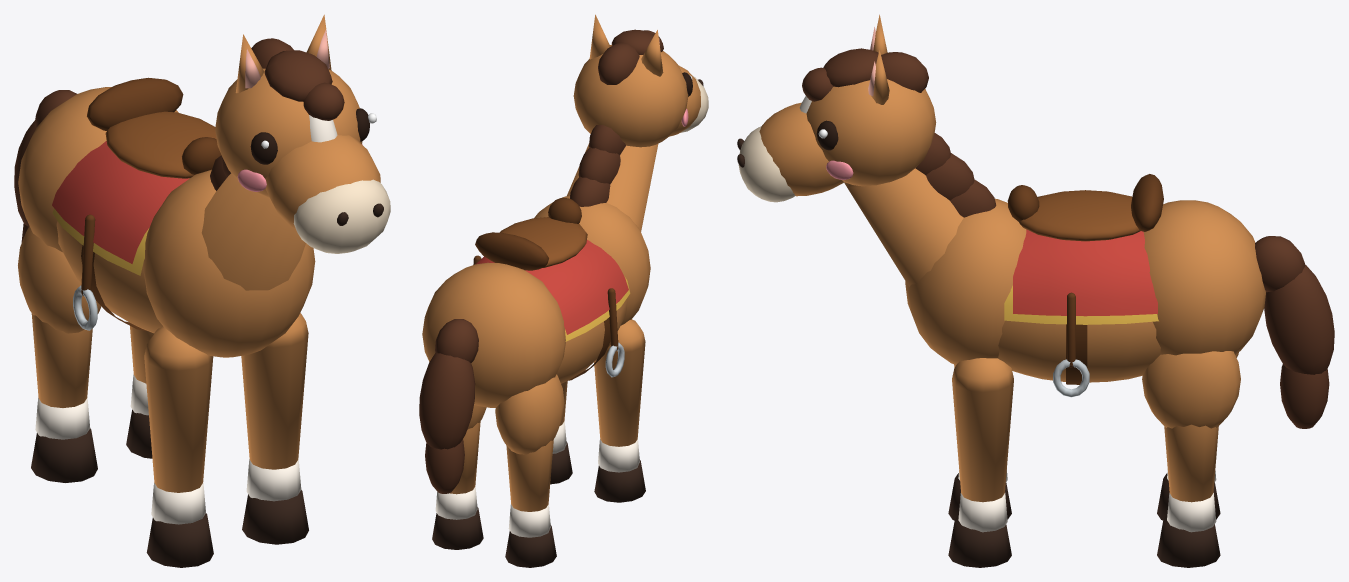
Rendered from horse.glb.
3 views of the same model, side by side, from view 1: azimuth 30°, elevation 25°; view 2: azimuth 150°, elevation 25°; view 3: azimuth 270°, elevation 25° (orthographic). The views are drawn at different scales.
Visible parts, largest first — view 1: Horse_Body, Horse_Head, Horse_Leg_FL, Horse_Leg_BL, Horse_Leg_FR, Horse_Neck, Horse_Leg_BR, Horse_Tail, Horse_Ear_L, Horse_Ear_R; view 2: Horse_Body, Horse_Head, Horse_Leg_BL, Horse_Tail, Horse_Leg_FL, Horse_Neck, Horse_Leg_BR, Horse_Leg_FR, Horse_Ear_L, Horse_Ear_R; view 3: Horse_Body, Horse_Head, Horse_Leg_BR, Horse_Leg_FR, Horse_Neck, Horse_Tail.
Part boxes in pixels (<box>): Horse_Body: <box>18,77,315,357</box>; Horse_Head: <box>215,38,390,253</box>; Horse_Leg_FL: <box>144,326,213,567</box>; Horse_Leg_BL: <box>18,226,101,482</box>; Horse_Leg_FR: <box>241,313,308,544</box>; Horse_Neck: <box>201,155,305,290</box>; Horse_Leg_BR: <box>126,326,153,458</box>; Horse_Tail: <box>14,90,76,242</box>; Horse_Ear_L: <box>235,34,264,93</box>; Horse_Ear_R: <box>306,14,331,70</box>; Horse_Body: <box>422,195,650,407</box>; Horse_Head: <box>573,29,708,147</box>; Horse_Leg_BL: <box>495,374,564,567</box>; Horse_Tail: <box>419,319,478,493</box>; Horse_Leg_FL: <box>594,319,645,502</box>; Horse_Neck: <box>567,125,658,231</box>; Horse_Leg_BR: <box>432,404,486,549</box>; Horse_Leg_FR: <box>550,381,572,484</box>; Horse_Ear_L: <box>641,30,663,76</box>; Horse_Ear_R: <box>589,14,610,59</box>; Horse_Body: <box>905,174,1265,397</box>; Horse_Head: <box>737,48,936,202</box>; Horse_Leg_BR: <box>1142,351,1240,567</box>; Horse_Leg_FR: <box>948,358,1013,567</box>; Horse_Neck: <box>844,133,996,286</box>; Horse_Tail: <box>1255,236,1334,428</box>.
Bounding box in the file's own units: 0.6461 × 1.8 × 1.94.
